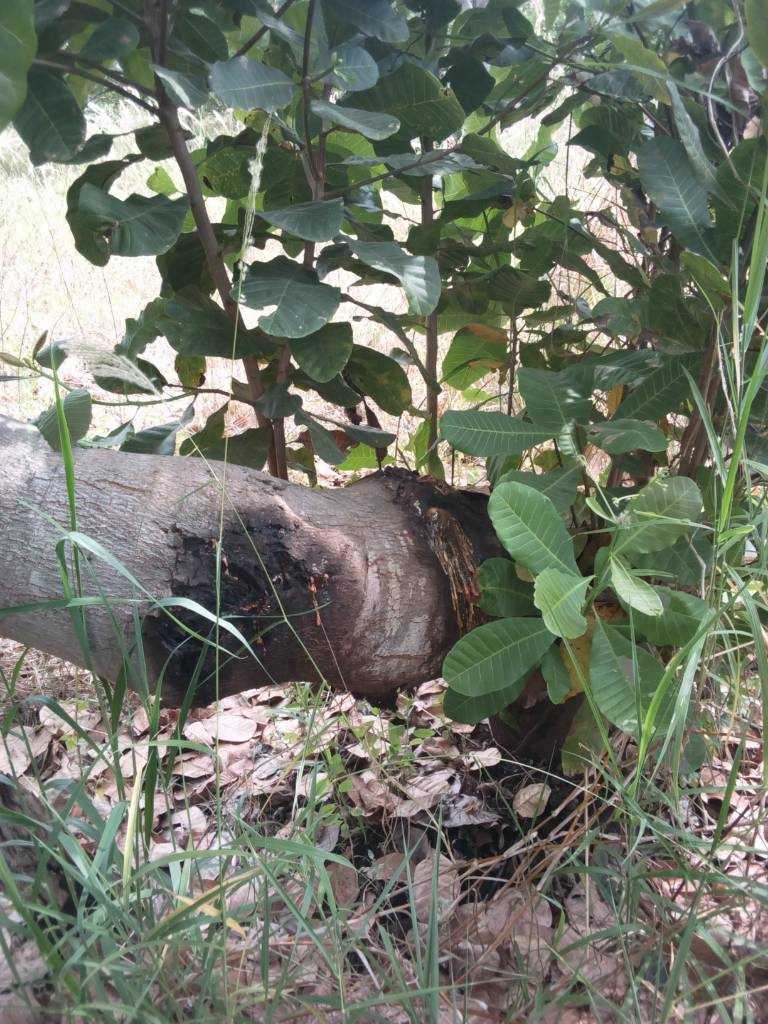Gommose: (158, 513, 335, 696)
